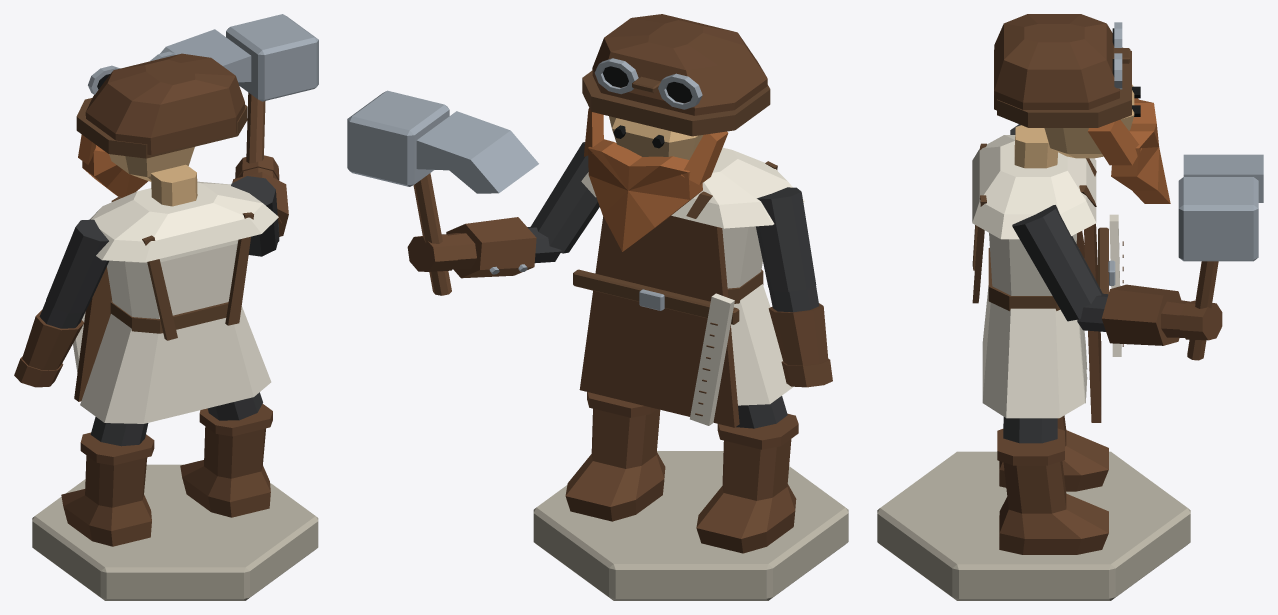
File: human_runebreaker_t4.glb
The picture shows the model from 3 angles, left to right: view 1: azimuth 30°, elevation 25°; view 2: azimuth 150°, elevation 25°; view 3: azimuth 270°, elevation 25°; orthographic projection. The views are drawn at different scales.
Visible parts, largest first — view 1: Foundation_Hexagonal_Stone, Continuous_Split_Tunic_Skirt, engineer_plain_faceted_workcap, Continuous_Shoulder_Mantle, Continuous_Tunic_Bodice, Boot_-1, Boot_1, engineer_carpenter_hammer_striking_face, left_upper_sleeve, engineer_long_wide_leather_apron, engineer_single_broad_carpenter_claw, left_bracer (+17 smaller); view 2: Foundation_Hexagonal_Stone, engineer_long_wide_leather_apron, engineer_plain_faceted_workcap, Boot_-1, Boot_1, engineer_one_copper_beard_wedge, engineer_carpenter_hammer_striking_face, engineer_single_broad_carpenter_claw, Continuous_Shoulder_Mantle, Continuous_Split_Tunic_Skirt, left_upper_sleeve, engineer_broad_brown_cap_band (+18 smaller); view 3: Foundation_Hexagonal_Stone, engineer_plain_faceted_workcap, Continuous_Split_Tunic_Skirt, Continuous_Shoulder_Mantle, Boot_1, engineer_carpenter_hammer_striking_face, right_upper_sleeve, engineer_right_working_forearm_wide_leather_bracer, engineer_one_copper_beard_wedge, engineer_broad_brown_cap_band, Continuous_Tunic_Bodice, Boot_-1 (+15 smaller).
Part boxes in pixels (x1=…): Foundation_Hexagonal_Stone: x1=32, y1=464, x2=318, y2=600; Continuous_Split_Tunic_Skirt: x1=80, y1=306, x2=271, y2=423; engineer_plain_faceted_workcap: x1=85, y1=53, x2=244, y2=154; Continuous_Shoulder_Mantle: x1=90, y1=181, x2=278, y2=262; Continuous_Tunic_Bodice: x1=107, y1=240, x2=238, y2=318; Boot_-1: x1=61, y1=455, x2=151, y2=546; Boot_1: x1=180, y1=426, x2=270, y2=517; engineer_carpenter_hammer_striking_face: x1=226, y1=14, x2=318, y2=101; left_upper_sleeve: x1=46, y1=219, x2=108, y2=313; engineer_long_wide_leather_apron: x1=74, y1=266, x2=111, y2=401; engineer_single_broad_carpenter_claw: x1=160, y1=29, x2=251, y2=82; left_bracer: x1=22, y1=310, x2=84, y2=370; Foundation_Hexagonal_Stone: x1=533, y1=451, x2=848, y2=600; engineer_long_wide_leather_apron: x1=579, y1=215, x2=739, y2=427; engineer_plain_faceted_workcap: x1=592, y1=14, x2=767, y2=115; Boot_-1: x1=696, y1=439, x2=796, y2=553; Boot_1: x1=565, y1=408, x2=665, y2=521; engineer_one_copper_beard_wedge: x1=588, y1=139, x2=702, y2=251; engineer_carpenter_hammer_striking_face: x1=347, y1=90, x2=449, y2=186; engineer_single_broad_carpenter_claw: x1=416, y1=111, x2=538, y2=193; Continuous_Shoulder_Mantle: x1=581, y1=147, x2=804, y2=228; Continuous_Split_Tunic_Skirt: x1=731, y1=284, x2=793, y2=405; left_upper_sleeve: x1=756, y1=187, x2=816, y2=291; engineer_broad_brown_cap_band: x1=582, y1=71, x2=770, y2=136; Foundation_Hexagonal_Stone: x1=877, y1=451, x2=1190, y2=600; engineer_plain_faceted_workcap: x1=994, y1=14, x2=1119, y2=110; Continuous_Split_Tunic_Skirt: x1=982, y1=285, x2=1084, y2=418; Continuous_Shoulder_Mantle: x1=972, y1=135, x2=1096, y2=239; Boot_1: x1=999, y1=461, x2=1108, y2=554; engineer_carpenter_hammer_striking_face: x1=1178, y1=177, x2=1258, y2=261; right_upper_sleeve: x1=1012, y1=205, x2=1102, y2=321; engineer_right_working_forearm_wide_leather_bracer: x1=1101, y1=284, x2=1181, y2=345; engineer_one_copper_beard_wedge: x1=1111, y1=99, x2=1170, y2=203; engineer_broad_brown_cap_band: x1=997, y1=47, x2=1131, y2=127; Continuous_Tunic_Bodice: x1=989, y1=233, x2=1076, y2=295; Boot_-1: x1=999, y1=415, x2=1108, y2=491.
Size of the model in its own units: 1.32 by 1.68 by 1.14.
